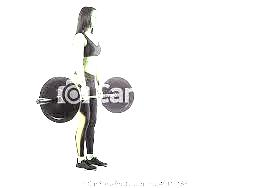Barbell: (33, 97, 45, 109)
